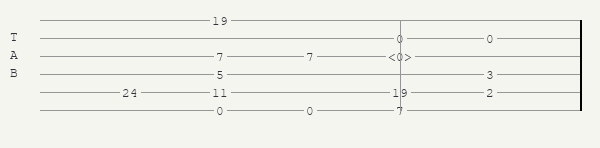0: (216, 104, 228, 116), (306, 104, 318, 116), (396, 32, 408, 44), (486, 32, 498, 44)
11: (212, 86, 232, 98)
19: (212, 14, 232, 26), (392, 86, 412, 98)
2: (486, 86, 498, 98)
24: (122, 86, 142, 98)
3: (486, 68, 498, 80)
5: (216, 68, 228, 80)
7: (216, 50, 228, 62), (306, 50, 318, 62), (396, 104, 408, 116)
harmonic: (388, 50, 416, 63)
